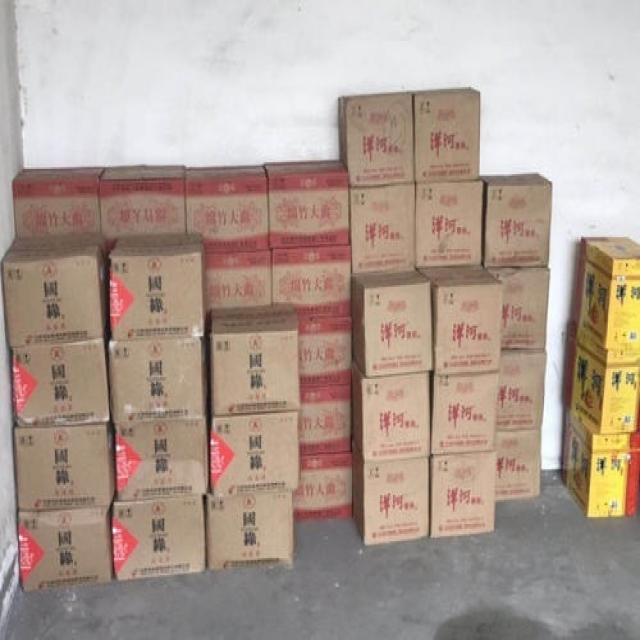box: (0, 237, 111, 347), (108, 235, 205, 339), (211, 305, 298, 417), (9, 337, 109, 428), (351, 269, 434, 378), (15, 425, 118, 511), (107, 338, 209, 424), (349, 439, 429, 547), (418, 268, 501, 372), (561, 410, 639, 517), (18, 509, 113, 596), (350, 362, 431, 463), (114, 418, 209, 503), (577, 238, 639, 367), (260, 162, 349, 250), (112, 496, 206, 579), (209, 414, 300, 496), (186, 164, 269, 252), (338, 91, 414, 187), (12, 167, 106, 240), (204, 493, 293, 570), (481, 173, 550, 266), (570, 343, 639, 435), (413, 87, 479, 182), (349, 184, 416, 276), (99, 165, 186, 235), (269, 247, 351, 320), (415, 181, 483, 268), (430, 454, 494, 539), (483, 268, 550, 349), (431, 373, 497, 454), (206, 251, 272, 312), (294, 452, 352, 521), (496, 351, 545, 431), (298, 318, 350, 390), (299, 387, 351, 456), (495, 430, 540, 500)
